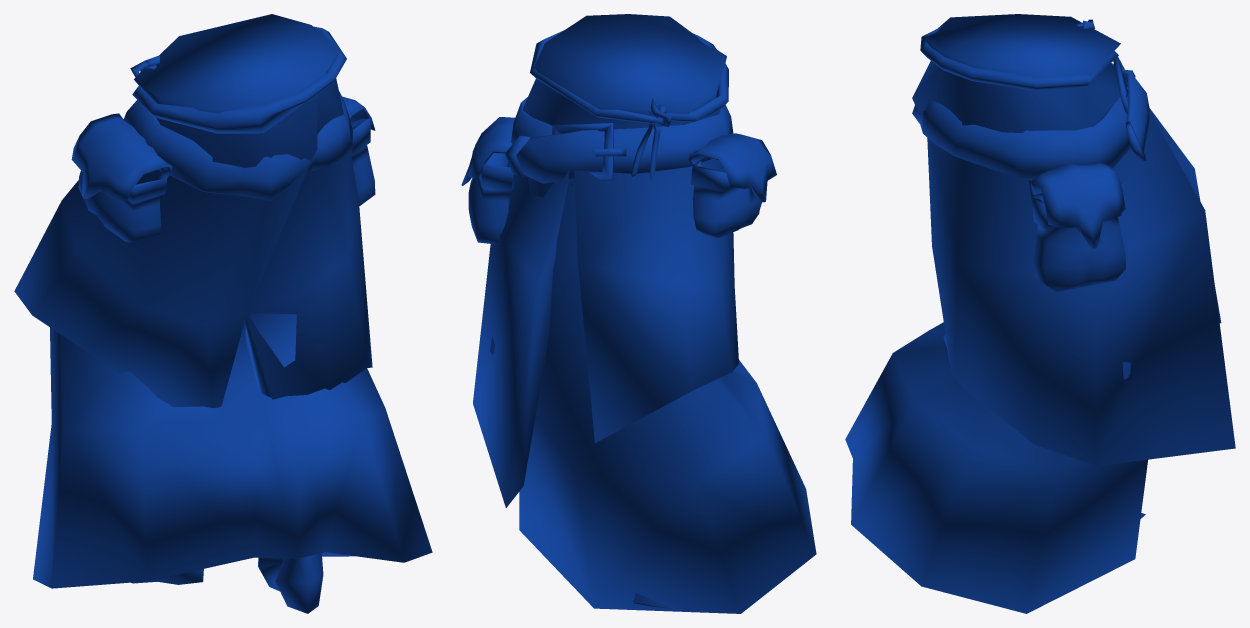
File: bot_000058.obj
3 views of the same model, side by side, from view 1: azimuth 30°, elevation 25°; view 2: azimuth 150°, elevation 25°; view 3: azimuth 270°, elevation 25° (orthographic). The views are drawn at different scales.
Visible parts, largest first — view 1: Wizard.001_Plane.001; view 2: Wizard.001_Plane.001; view 3: Wizard.001_Plane.001.
Boxes of the visible parts, x1,y1,x2,y2 form: Wizard.001_Plane.001: (14,14,432,613); Wizard.001_Plane.001: (461,14,816,613); Wizard.001_Plane.001: (845,14,1235,613).
Size of the model in its own units: 0.7265 by 1.11 by 0.7314.
